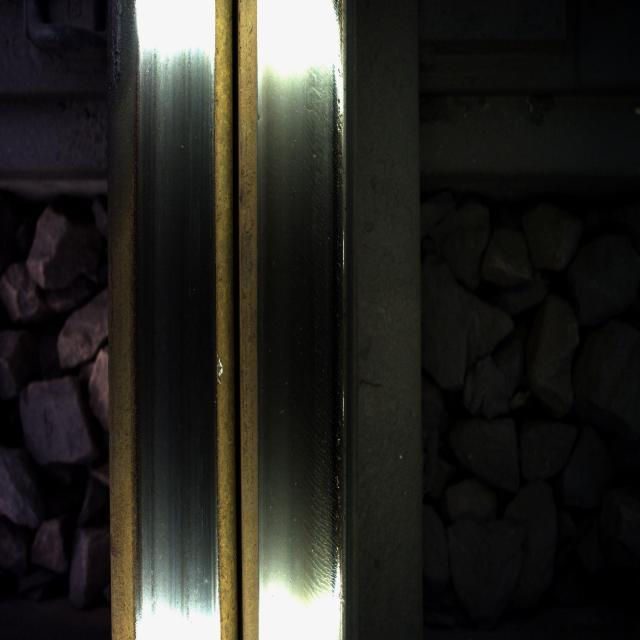break: (255, 68, 346, 534), (132, 96, 212, 510)
